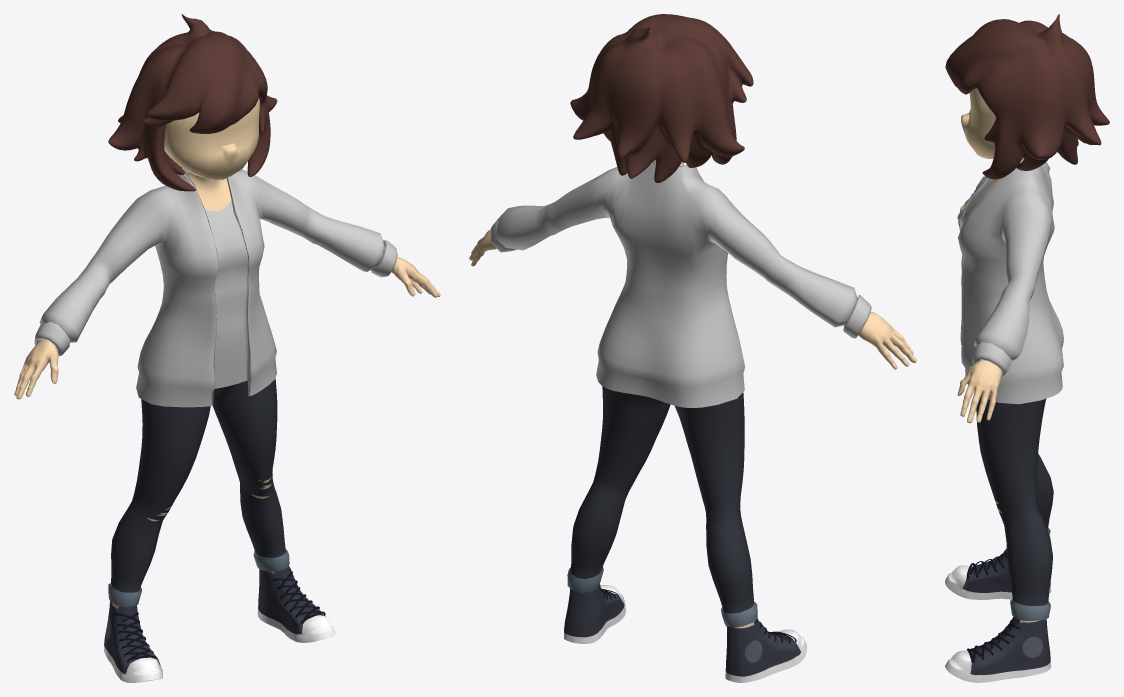
The model's file is Penny_Model_-_Test_02.fbx.
3 renders of one model, left to right at view 1: azimuth 30°, elevation 25°; view 2: azimuth 150°, elevation 25°; view 3: azimuth 270°, elevation 25°, orthographic. The views are drawn at different scales.
Parts seen in each view (by area): view 1: Jacket, Pants, Hair, Body_Mesh, L_Shoes, R_Shoes; view 2: Jacket, Hair, Pants, R_Shoes, L_Shoes, Body_Mesh; view 3: Jacket, Hair, Pants, L_Shoes, Body_Mesh, R_Shoes.
Part boxes in pixels (bbox=[...]): Jacket: bbox=[34, 167, 397, 407]; Pants: bbox=[108, 378, 289, 606]; Hair: bbox=[108, 14, 277, 191]; Body_Mesh: bbox=[14, 98, 440, 609]; L_Shoes: bbox=[257, 566, 335, 642]; R_Shoes: bbox=[104, 601, 162, 682]; Jacket: bbox=[490, 162, 871, 407]; Hair: bbox=[570, 14, 753, 182]; Pants: bbox=[567, 386, 757, 627]; R_Shoes: bbox=[725, 618, 806, 682]; L_Shoes: bbox=[564, 584, 625, 643]; Body_Mesh: bbox=[469, 159, 916, 628]; Jacket: bbox=[958, 162, 1063, 404]; Hair: bbox=[945, 14, 1109, 179]; Pants: bbox=[976, 395, 1053, 621]; L_Shoes: bbox=[945, 617, 1051, 682]; Body_Mesh: bbox=[957, 88, 1039, 665]; R_Shoes: bbox=[945, 549, 1051, 599].
Bounding box in the file's own units: 60.02 × 83.02 × 20.05.
